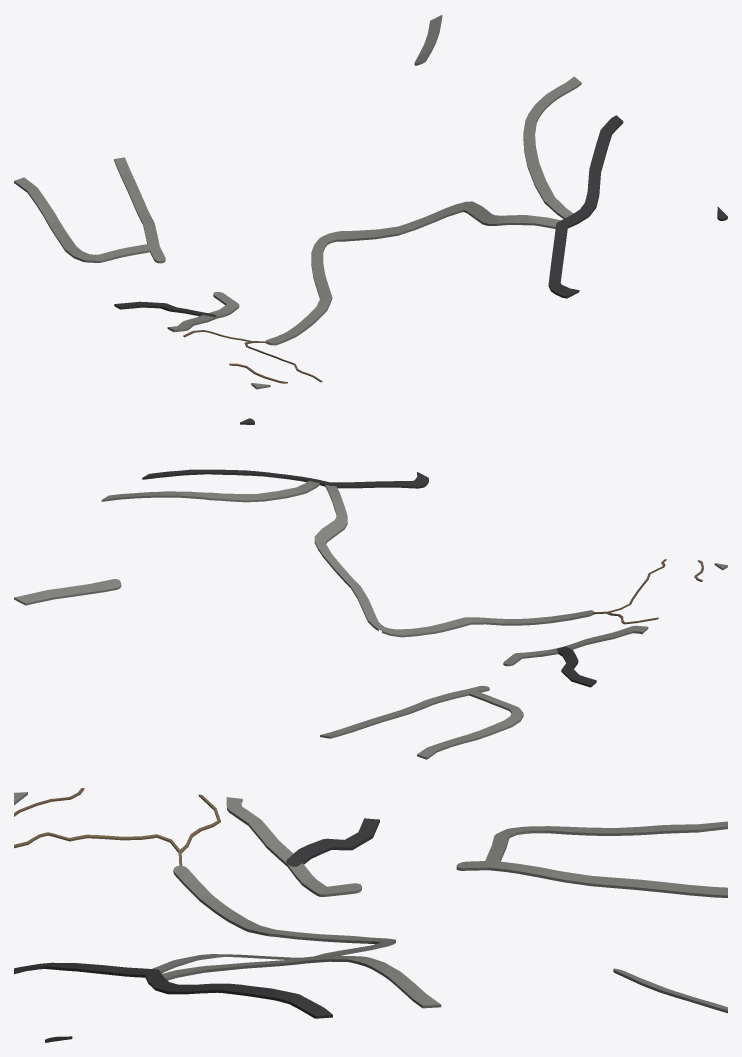
3 views of the same model, one above another, from view 1: azimuth 30°, elevation 25°; view 2: azimuth 150°, elevation 25°; view 3: azimuth 270°, elevation 25° (orthographic). The views are drawn at different scales.
Size of the model in its own units: 293 by 61.9 by 292.
